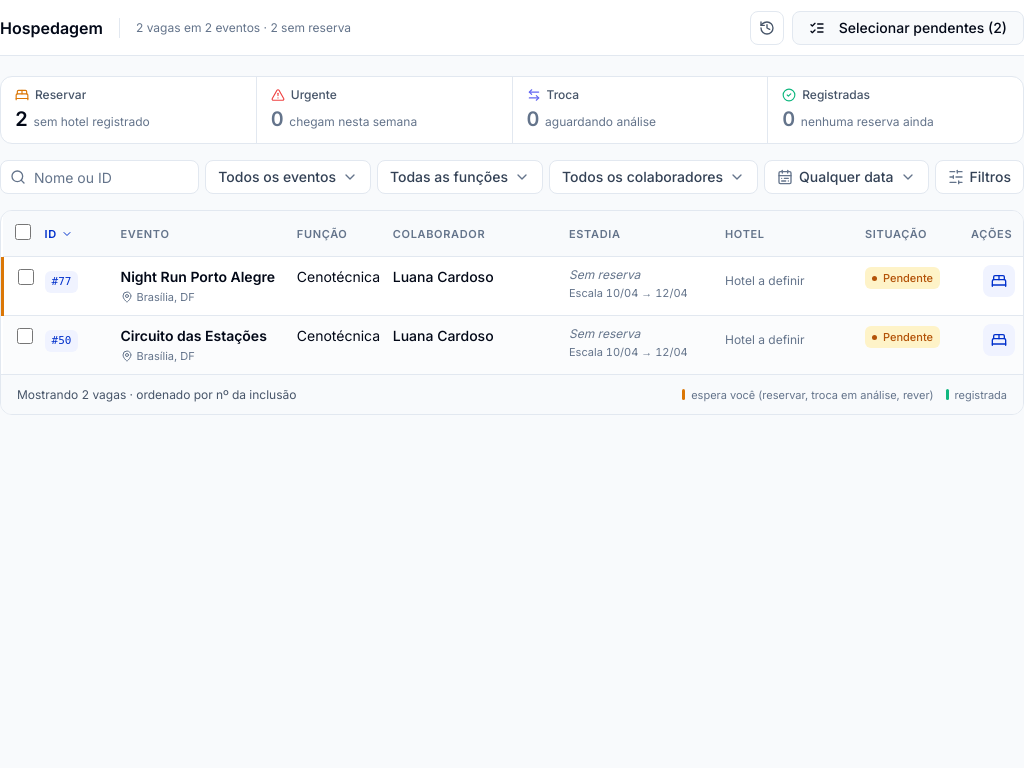
Scenario: Hospedagem — seletor de evento com um evento escolhido › o escolhido mostra o número; o outro aparece sem número (nem 0)
The width and height of the screenshot is (1024, 768).
Click the button with test id "filter-event" at (288, 177), box [205,160,371,194]
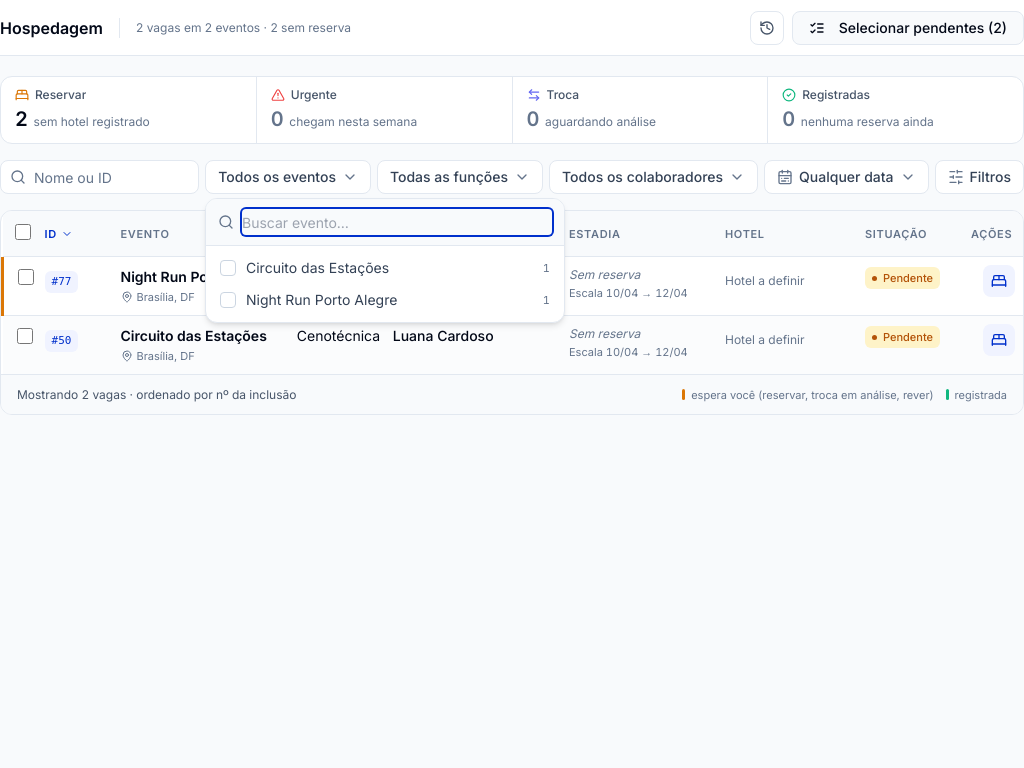
Click the checkbox with test id "filter-event-opcao-ev-a" at (385, 268), box [212,252,558,284]
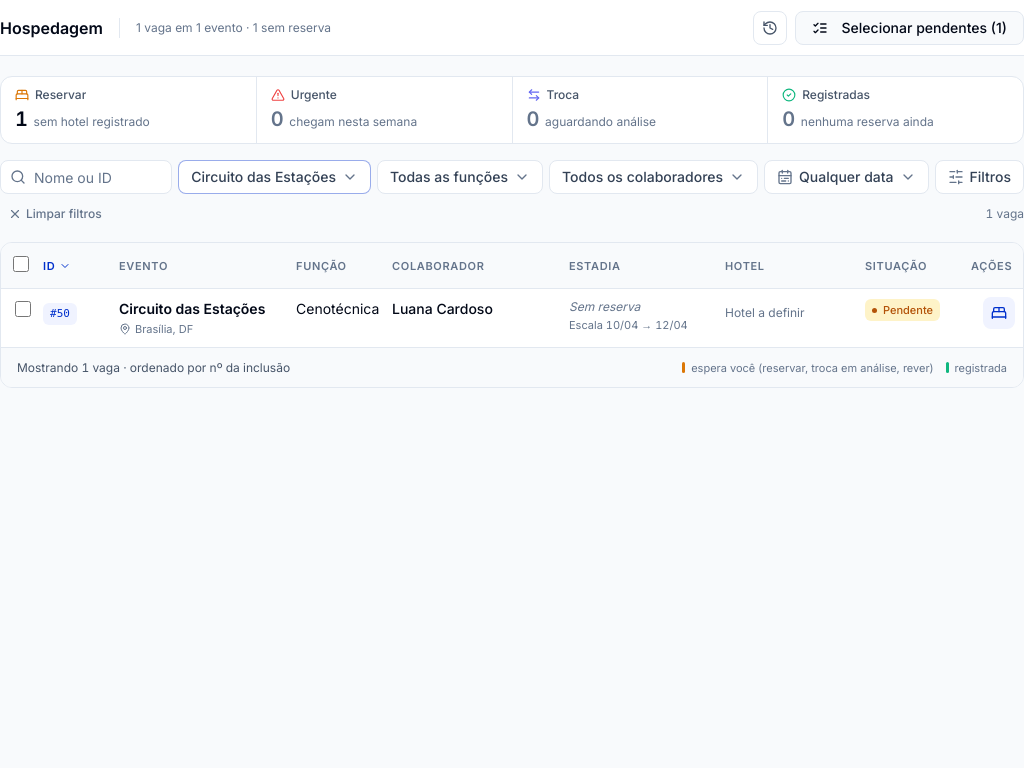
Click the button with test id "filter-event" at (275, 177), box [178,160,371,194]
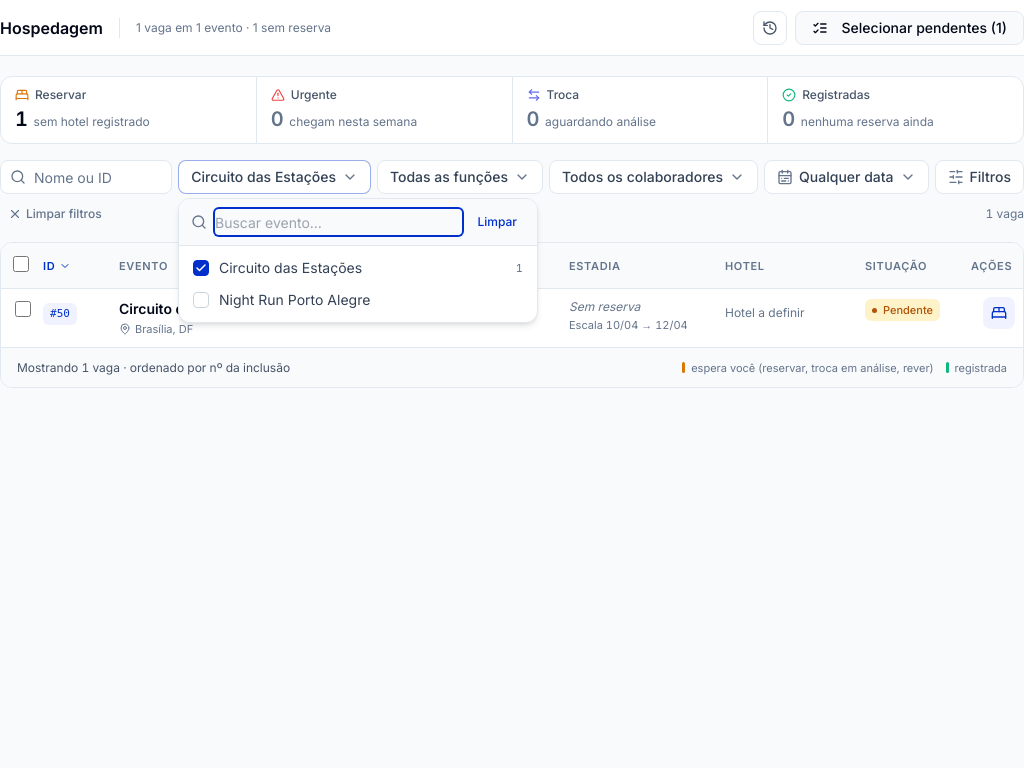
Expected: the checkbox with test id "filter-event-opcao-ev-a" shows "1", [185,252,531,284]
Expected: the checkbox with test id "filter-event-opcao-ev-b" reads "Night Run Porto Alegre", [185,284,531,316]
